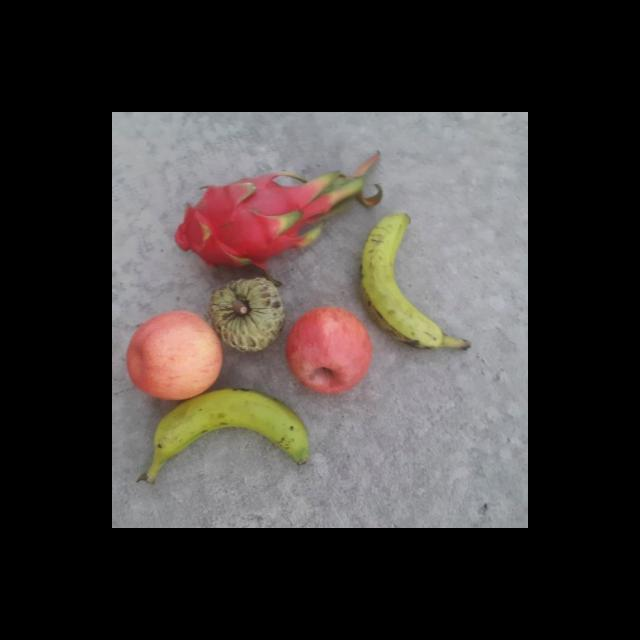Sakya fruit: (206, 272, 282, 352)
apple: (124, 309, 222, 398), (282, 304, 370, 394)
banana: (358, 208, 476, 349), (150, 385, 318, 481)
pitaya: (172, 171, 314, 272)
